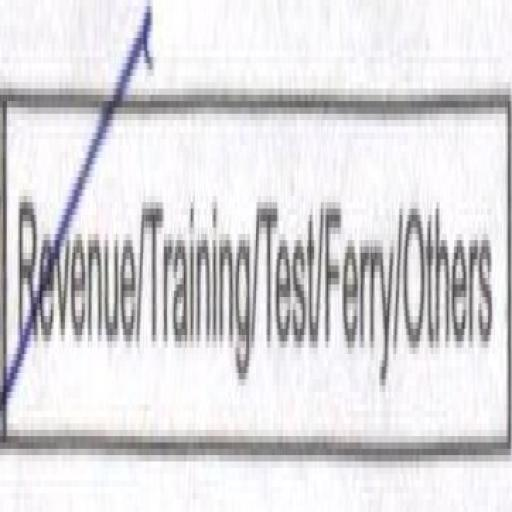check: (2, 44, 139, 510)
